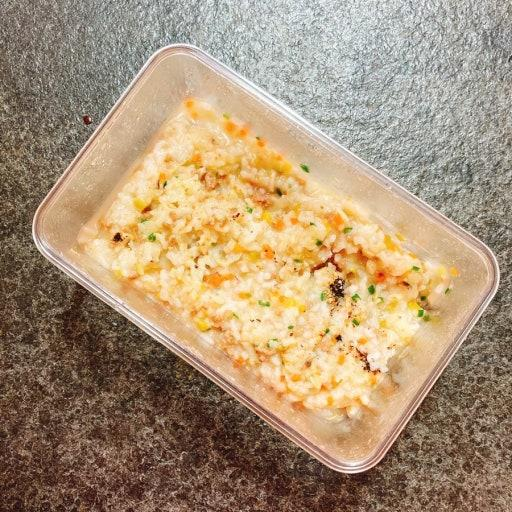Lunch Box: (33, 45, 498, 472)
